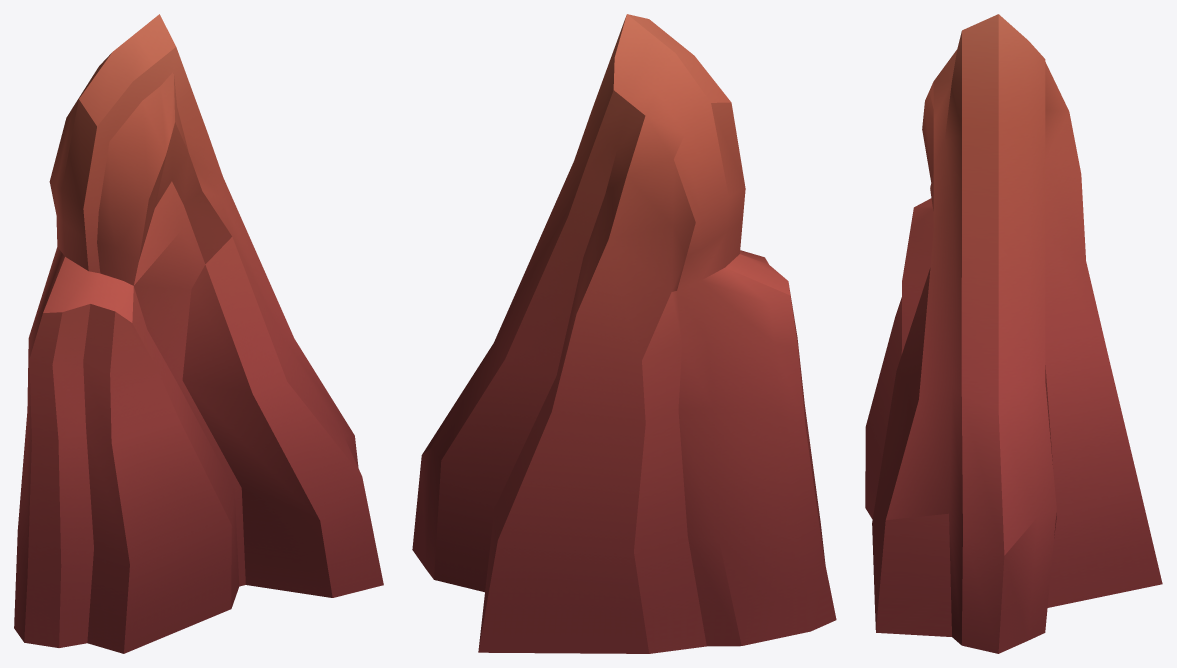
Rendered from Cliffs_V07.fbx.
3 views of the same model, side by side, from view 1: azimuth 30°, elevation 25°; view 2: azimuth 150°, elevation 25°; view 3: azimuth 270°, elevation 25° (orthographic). The views are drawn at different scales.
Parts seen in each view (by area): view 1: SM_Cliff_V07_C01_01; view 2: SM_Cliff_V07_C01_01; view 3: SM_Cliff_V07_C01_01.
Part boxes in pixels (bbox=[...]): SM_Cliff_V07_C01_01: bbox=[14, 14, 383, 653]; SM_Cliff_V07_C01_01: bbox=[412, 14, 836, 653]; SM_Cliff_V07_C01_01: bbox=[865, 14, 1162, 653].
Bounding box in the file's own units: 650 × 937 × 465.
